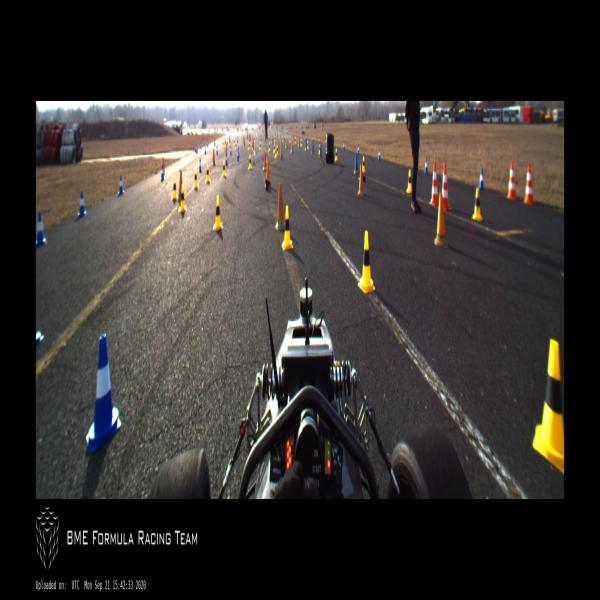blue_cone: (85, 333, 121, 453), (35, 212, 46, 248), (36, 317, 44, 346), (78, 191, 86, 216), (118, 174, 124, 194), (479, 170, 484, 190), (160, 164, 164, 181), (424, 158, 428, 173), (198, 158, 202, 172), (236, 148, 240, 161), (225, 153, 228, 166), (378, 149, 381, 160), (237, 148, 240, 158), (204, 146, 207, 154), (230, 145, 232, 156), (358, 144, 360, 154), (196, 144, 198, 153), (216, 146, 218, 155), (343, 142, 345, 150), (260, 134, 262, 141), (195, 144, 196, 153), (200, 142, 201, 150), (207, 140, 208, 147), (214, 139, 215, 146), (225, 137, 226, 144), (325, 139, 326, 146), (319, 136, 320, 143), (304, 136, 305, 142), (284, 135, 285, 141), (237, 136, 238, 142), (249, 136, 250, 141)
large_orange_cone: (440, 164, 452, 210), (523, 164, 534, 205), (430, 161, 439, 205), (507, 161, 517, 199)
unknown_cone: (434, 192, 449, 248), (275, 183, 286, 229), (358, 163, 366, 195), (265, 158, 271, 186), (178, 170, 183, 201), (353, 152, 359, 175), (280, 136, 284, 160), (263, 149, 267, 170), (212, 148, 216, 166), (162, 157, 165, 175), (290, 141, 294, 153), (285, 137, 288, 149), (312, 138, 314, 153), (320, 144, 322, 157), (252, 137, 254, 149), (298, 136, 300, 147), (305, 139, 307, 150), (243, 136, 245, 146), (246, 130, 248, 139), (228, 135, 230, 143), (271, 136, 273, 144), (292, 136, 294, 144), (279, 132, 281, 138), (264, 137, 266, 142)
yellow_cone: (533, 340, 564, 472), (358, 231, 375, 293), (282, 206, 293, 250), (472, 188, 484, 222), (212, 195, 222, 230), (179, 185, 187, 212), (171, 176, 178, 200), (406, 169, 412, 192), (193, 169, 199, 189), (205, 164, 210, 181), (222, 160, 226, 178), (362, 156, 366, 173), (248, 154, 252, 169), (334, 149, 338, 160), (274, 148, 278, 158), (300, 138, 303, 146), (276, 145, 278, 155), (274, 143, 276, 153), (318, 144, 320, 154), (306, 140, 308, 150), (235, 141, 237, 151), (268, 143, 270, 152), (259, 142, 261, 150), (248, 142, 250, 150), (290, 136, 292, 144), (223, 141, 225, 148), (226, 140, 228, 145), (234, 137, 235, 146), (295, 136, 296, 144), (274, 136, 275, 142), (254, 138, 255, 143)
